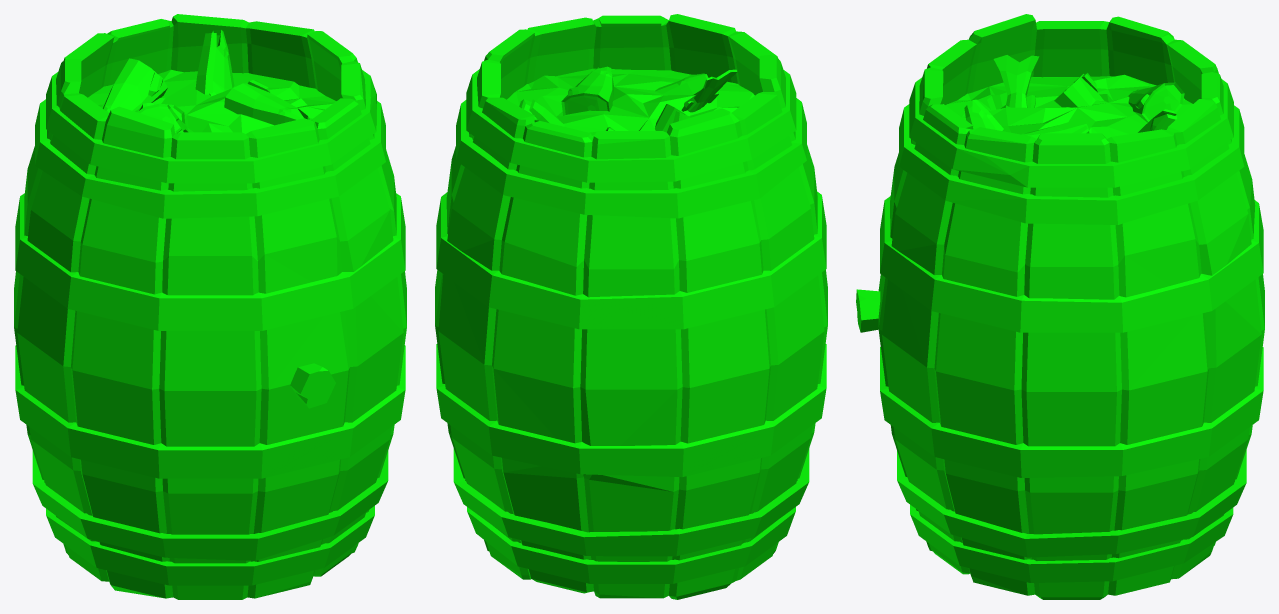
The model's file is SM_Barrel_Wood_B_Fish_B_Fantasy.fbx.
The picture shows the model from 3 angles, left to right: view 1: azimuth 30°, elevation 25°; view 2: azimuth 150°, elevation 25°; view 3: azimuth 270°, elevation 25°; orthographic projection.
Parts seen in each view (by area): view 1: barrel-wood-b-fish-b-fantasy; view 2: barrel-wood-b-fish-b-fantasy; view 3: barrel-wood-b-fish-b-fantasy.
Part boxes in pixels (x1,y1,x2,y2): barrel-wood-b-fish-b-fantasy: (14,14,406,599); barrel-wood-b-fish-b-fantasy: (435,14,827,599); barrel-wood-b-fish-b-fantasy: (856,14,1264,599).
Size of the model in its own units: 0.9461 by 1.27 by 1.
